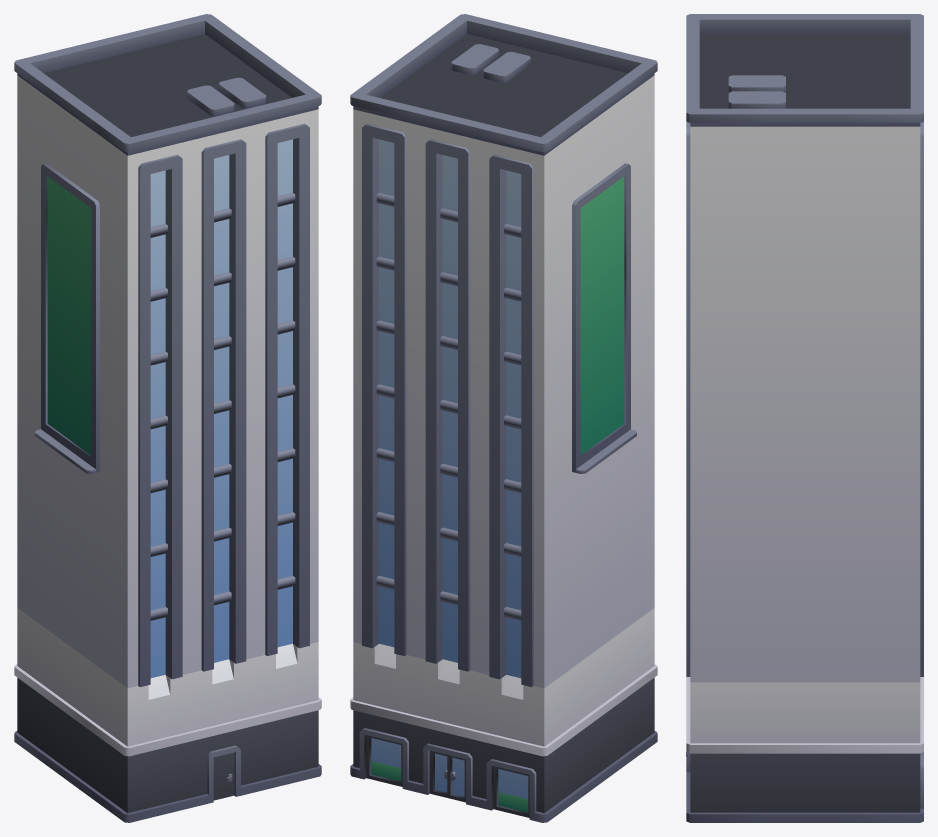
Rendered from k_c_building-skyscraper-e.glb.
The picture shows the model from 3 angles, left to right: view 1: azimuth 30°, elevation 25°; view 2: azimuth 150°, elevation 25°; view 3: azimuth 270°, elevation 25°; orthographic projection. The views are drawn at different scales.
Parts seen in each view (by area): view 1: building-skyscraper-e; view 2: building-skyscraper-e; view 3: building-skyscraper-e.
Boxes of the visible parts, x1,y1,x2,y2 form: building-skyscraper-e: (14, 14, 321, 822); building-skyscraper-e: (350, 14, 657, 822); building-skyscraper-e: (686, 14, 923, 822).
Size of the model in its own units: 1.29 by 4.08 by 1.24.
Materials: 1 (1 with a texture image).
